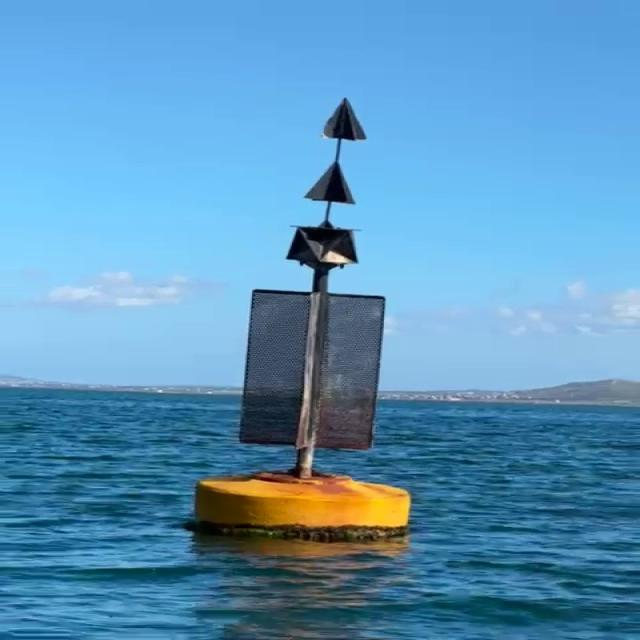marque: (196, 99, 412, 540)
